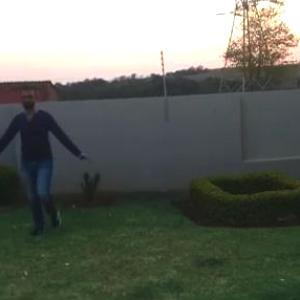land: (1, 101, 90, 234)
